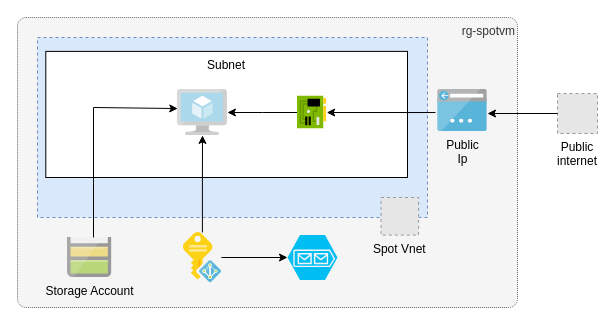
The diagram is 615 pixels wide and 325 high, and some of its shapes have lost their labels. Grey dashed boxes stand in for pictures. The shapes that lost their labels are listed below. From the top down, each one's centre as x and y in pixels, then its label:
pixel 202 112: Spot VM
pixel 311 112: NIC
pixel 312 257: Storage Queue
